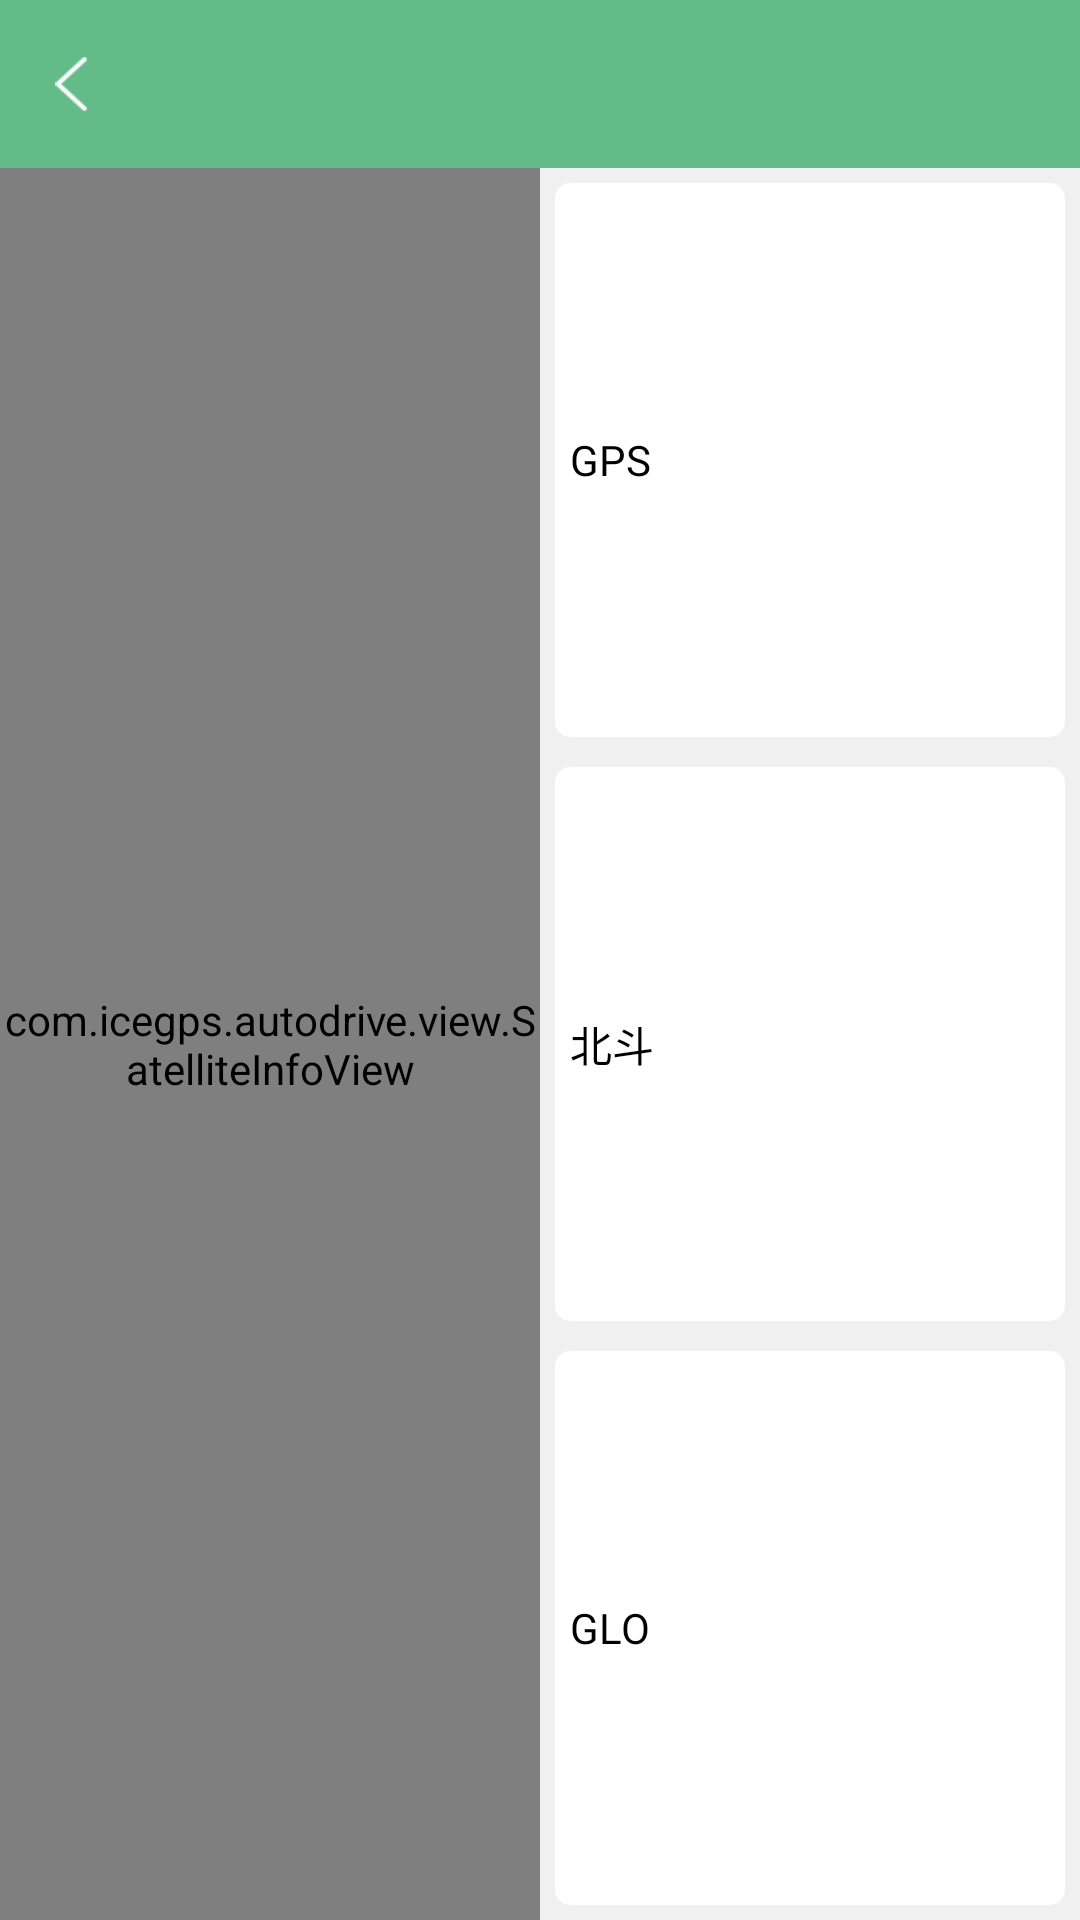

Locate icon controls on the screen. Image size 1080×1920, boxes as rect(x1, y1, x2, y2).
back: rect(55, 57, 87, 111)
